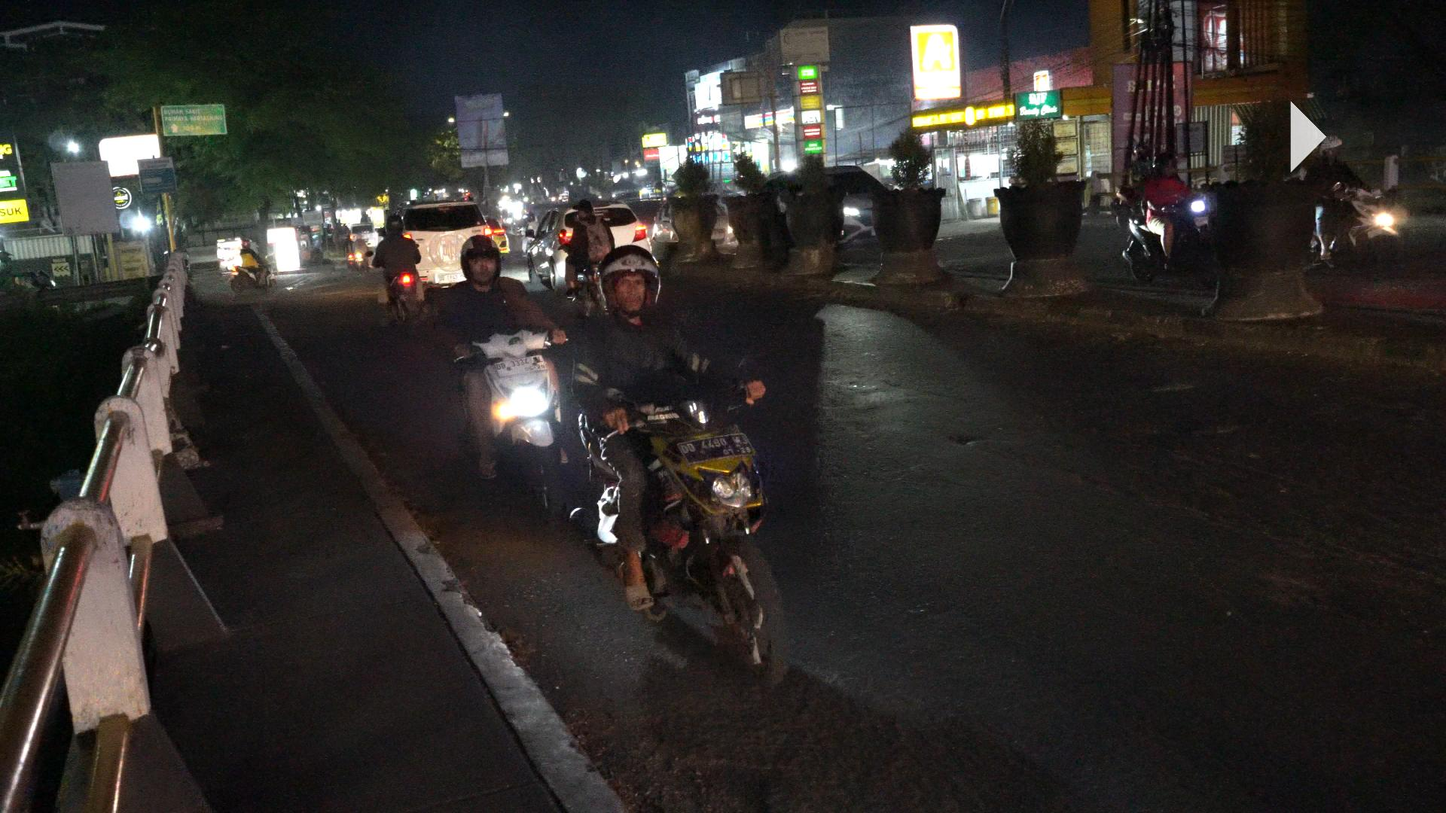number-plate: (677, 428, 756, 463), (493, 352, 551, 378)
